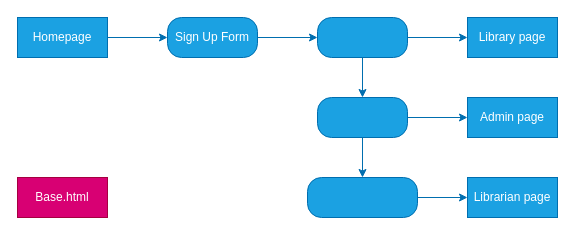
This 575x235 diagram has some shape labels left out. Each missing label, with the centre of its shape:
"Admin Login" belongs at (x=362, y=117).
"Librarian Login" belongs at (x=362, y=197).
"Login Form" belongs at (x=362, y=37).
